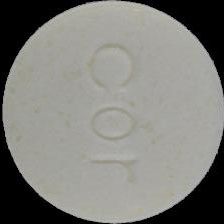69543-120: (0, 0, 224, 224)
